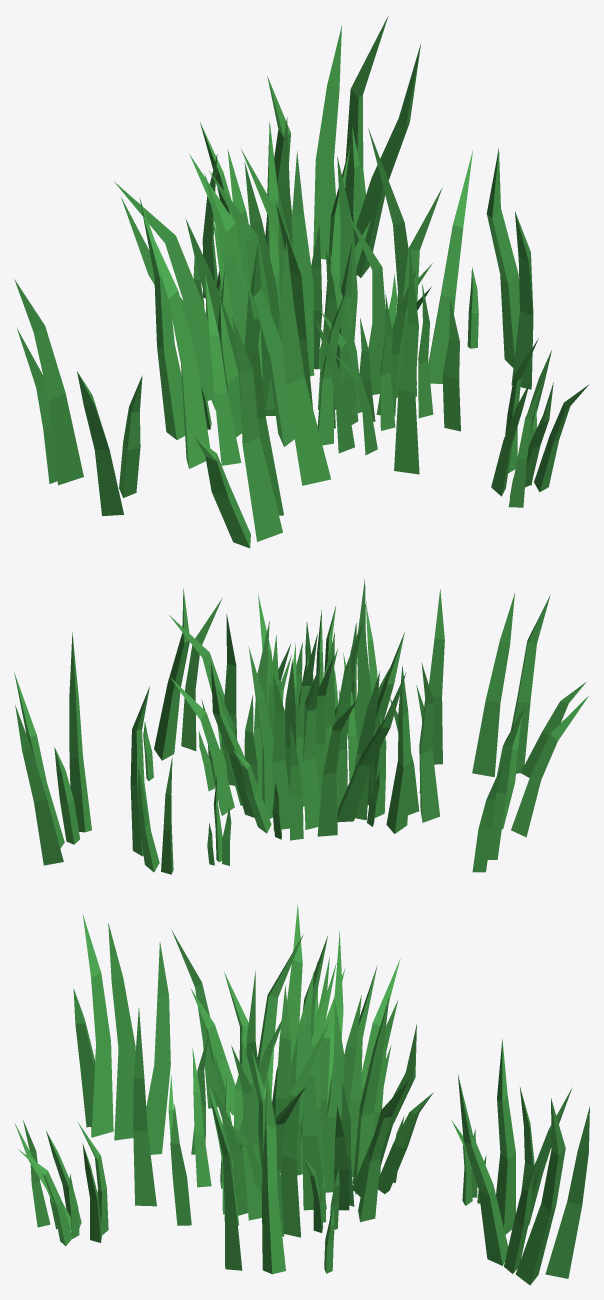
Rendered from grass_green.glb.
The picture shows the model from 3 angles, top to bottom: view 1: azimuth 30°, elevation 25°; view 2: azimuth 150°, elevation 25°; view 3: azimuth 270°, elevation 25°; orthographic projection. The views are drawn at different scales.
Parts seen in each view (by area): view 1: group1744197509, group1681983211, group1697339476, group443349435, group1255547812, group678362861, group908757786, group54891894, group2043014497, group208637188, group2019195407, group1825840008 (+48 smaller); view 2: group343340000, group2043014497, group908757786, group54891894, group1255547812, group612556706, group1697339476, group277299665, group902223660, group1681983211, group46854911, group228620189 (+37 smaller); view 3: group343340000, group1681983211, group1744197509, group54891894, group1661925368, group2043014497, group252032136, group1255547812, group678362861, group1101659140, group619381689, group1072724566 (+44 smaller).
Boxes of the visible parts, bbox=[...] form: group1744197509: bbox=[279, 241, 330, 485]; group1681983211: bbox=[232, 316, 282, 541]; group1697339476: bbox=[143, 215, 210, 468]; group443349435: bbox=[14, 279, 83, 485]; group1255547812: bbox=[313, 25, 341, 259]; group678362861: bbox=[394, 246, 419, 474]; group908757786: bbox=[139, 198, 184, 439]; group54891894: bbox=[486, 148, 519, 367]; group2043014497: bbox=[354, 42, 421, 277]; group208637188: bbox=[428, 150, 472, 383]; group2019195407: bbox=[250, 244, 294, 446]; group1825840008: bbox=[205, 275, 241, 465]; group343340000: bbox=[472, 593, 514, 777]; group2043014497: bbox=[69, 632, 91, 832]; group908757786: bbox=[386, 665, 411, 833]; group54891894: bbox=[154, 588, 189, 760]; group1255547812: bbox=[15, 705, 63, 865]; group612556706: bbox=[303, 664, 320, 829]; group1697339476: bbox=[419, 663, 439, 822]; group277299665: bbox=[337, 672, 406, 822]; group902223660: bbox=[317, 701, 356, 836]; group1681983211: bbox=[510, 595, 550, 773]; group46854911: bbox=[272, 674, 289, 830]; group228620189: bbox=[511, 696, 588, 837]; group343340000: bbox=[108, 923, 135, 1140]; group1681983211: bbox=[82, 914, 113, 1137]; group1744197509: bbox=[146, 942, 170, 1154]; group54891894: bbox=[261, 1072, 285, 1274]; group1661925368: bbox=[515, 1098, 565, 1285]; group2043014497: bbox=[458, 1075, 508, 1265]; group252032136: bbox=[281, 1020, 329, 1237]; group1255547812: bbox=[545, 1106, 589, 1278]; group678362861: bbox=[133, 1007, 156, 1206]; group1101659140: bbox=[496, 1039, 515, 1234]; group619381689: bbox=[302, 1008, 326, 1210]; group1072724566: bbox=[352, 996, 389, 1194].
Size of the model in its own units: 0.583 by 0.2873 by 0.6368.
